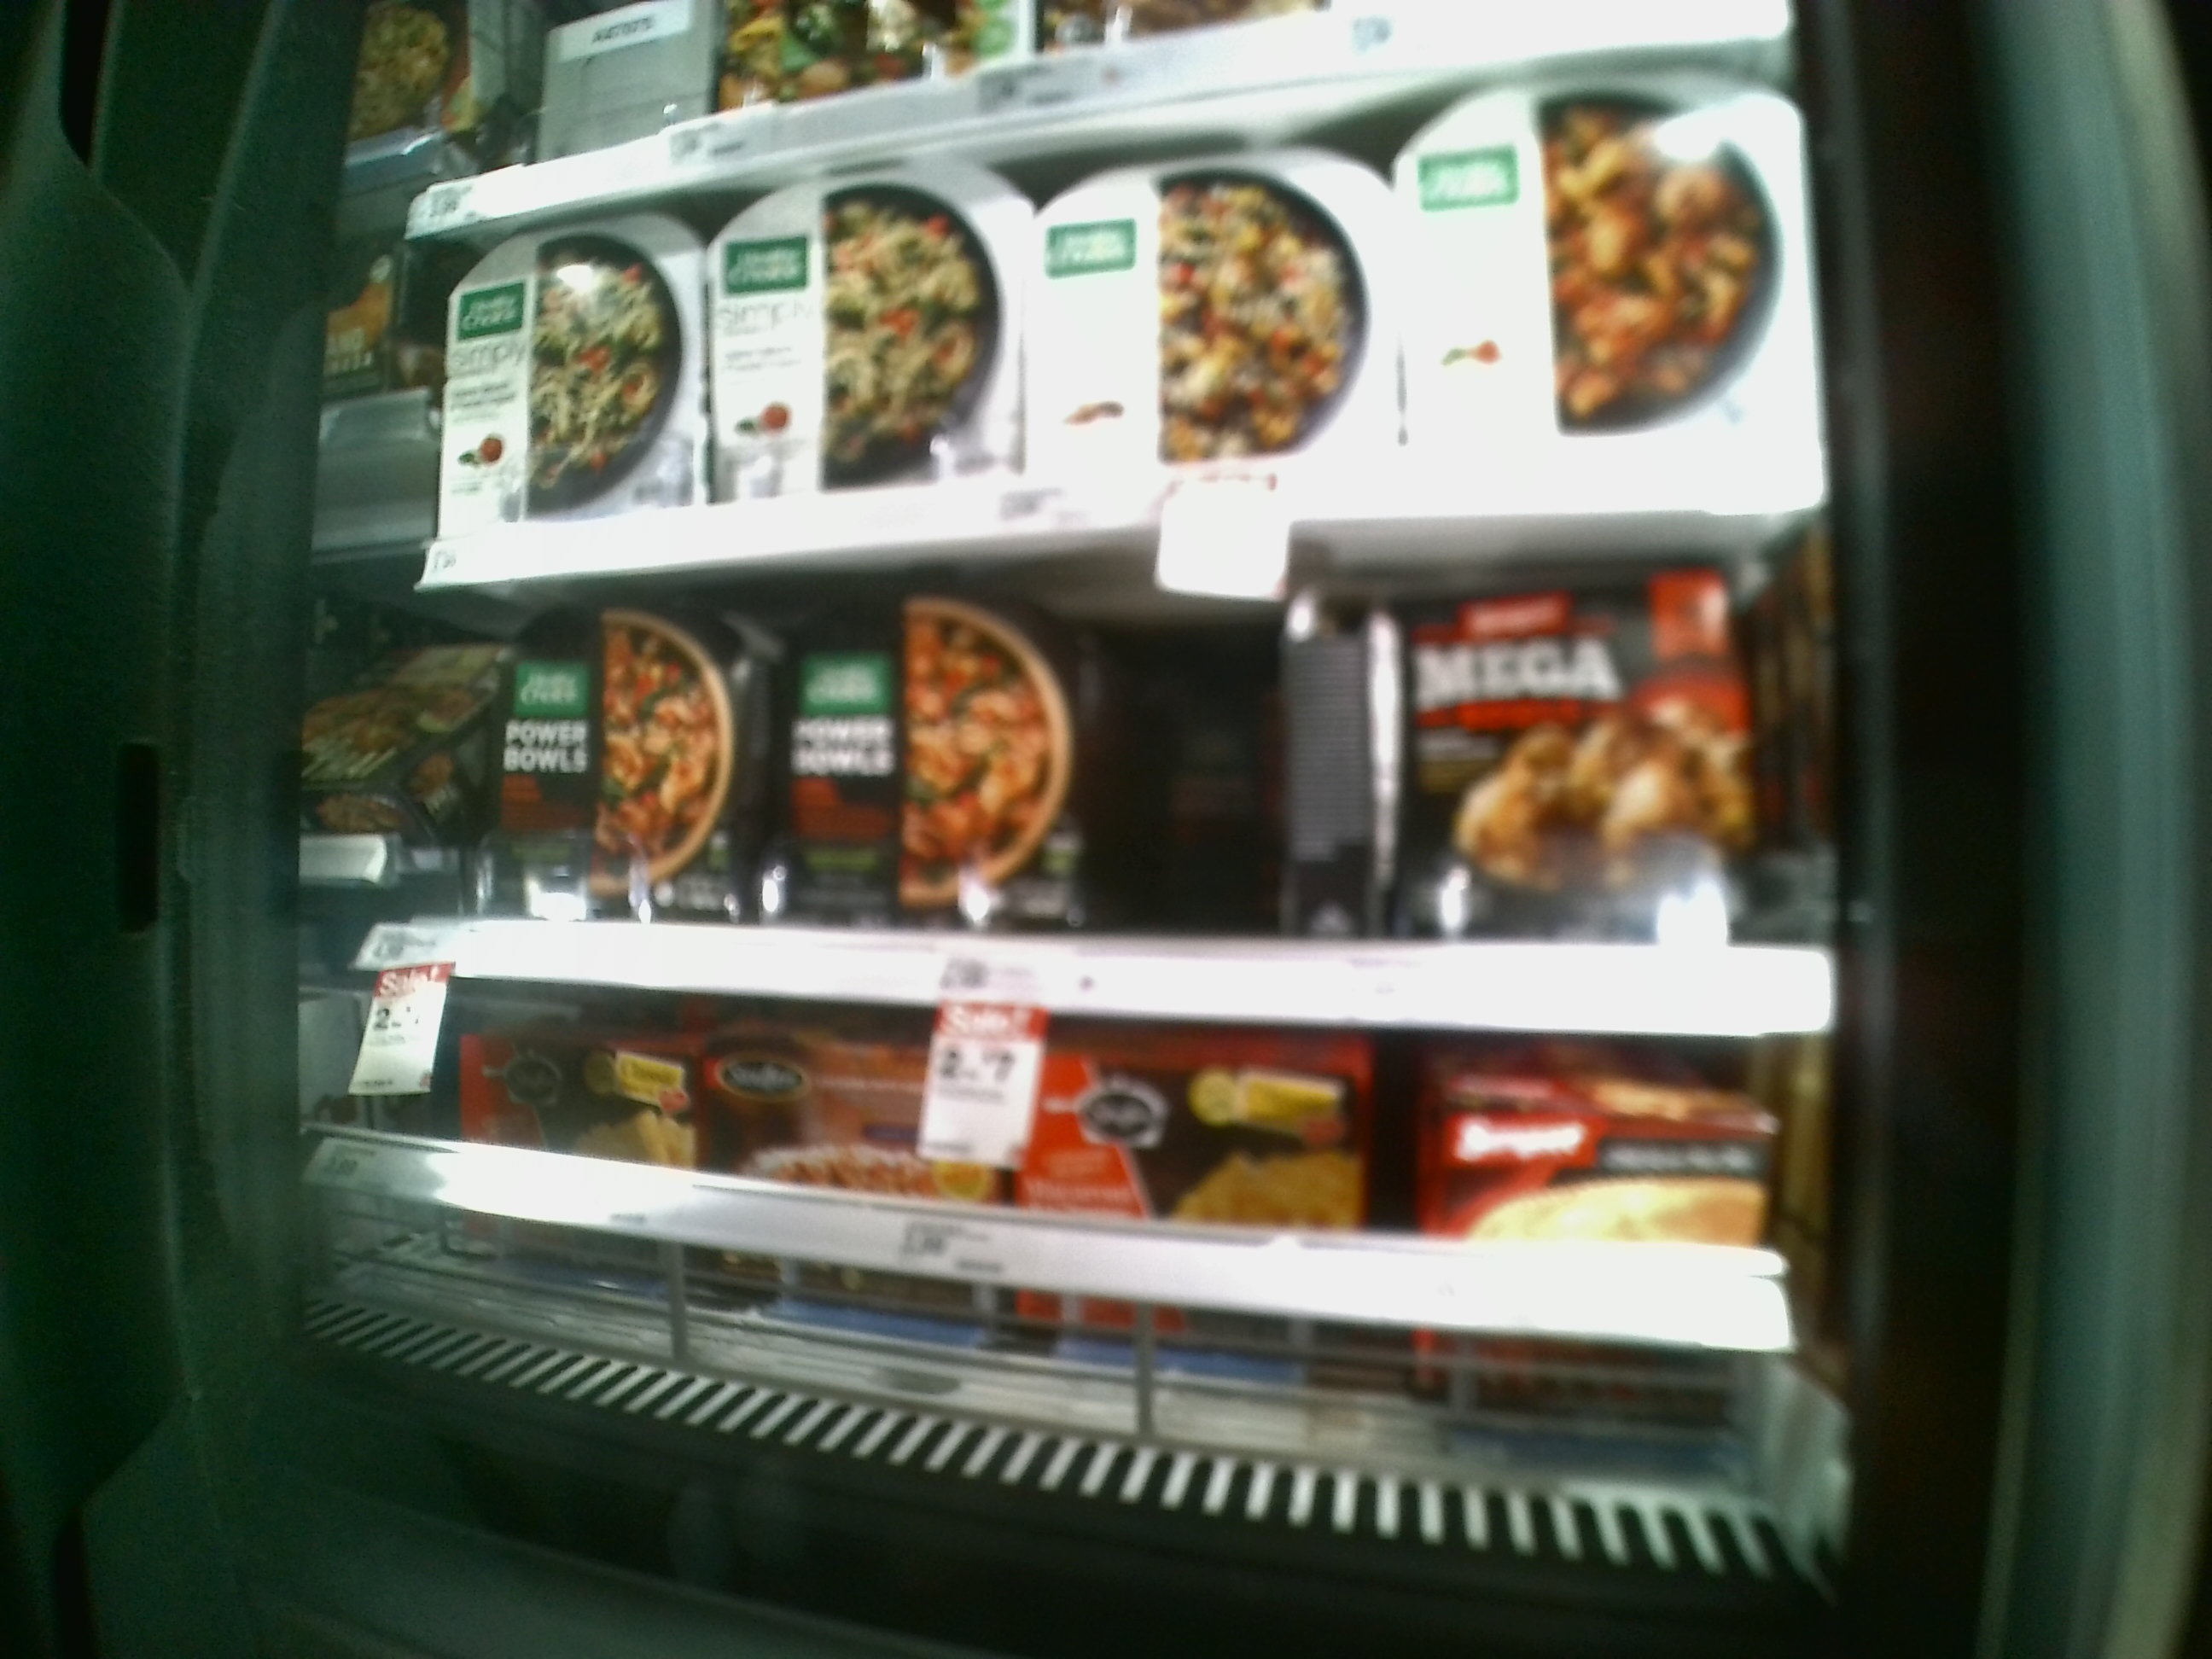pizza: (1390, 63, 1820, 467), (1360, 582, 1756, 918), (1019, 129, 1385, 472), (779, 591, 1094, 915), (697, 171, 1014, 491), (437, 211, 711, 523), (502, 603, 742, 908)
